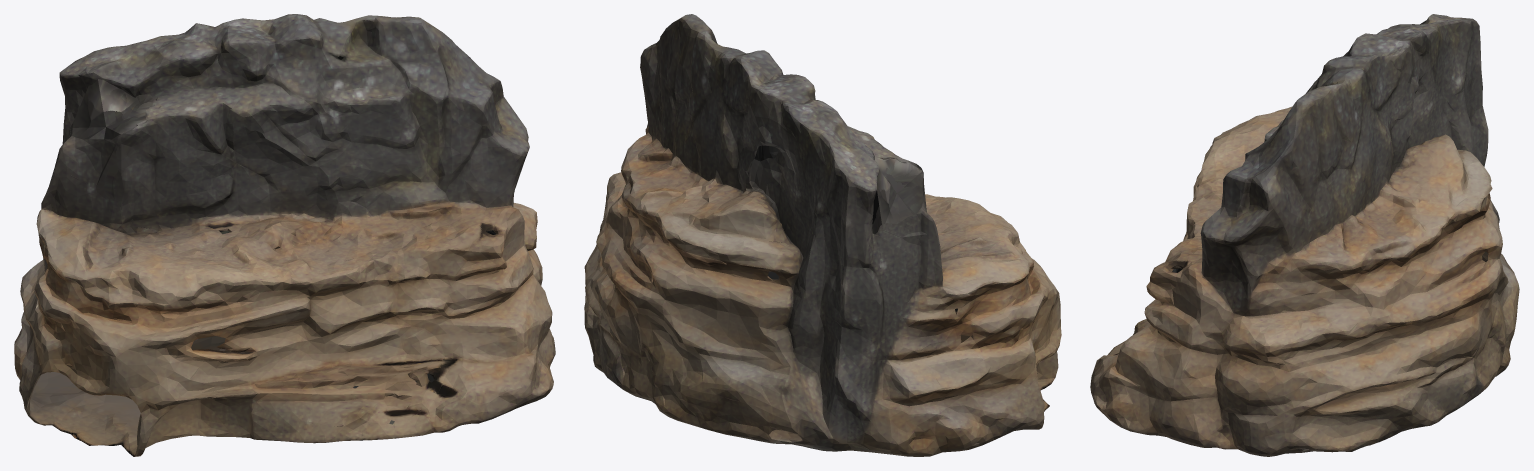
3 views of the same model, side by side, from view 1: azimuth 30°, elevation 25°; view 2: azimuth 150°, elevation 25°; view 3: azimuth 270°, elevation 25° (orthographic).
Visible parts, largest first — view 1: geometry_0; view 2: geometry_0; view 3: geometry_0.
Part boxes in pixels (x1=…): geometry_0: x1=14, y1=14, x2=555, y2=456; geometry_0: x1=584, y1=14, x2=1061, y2=456; geometry_0: x1=1090, y1=14, x2=1519, y2=456.
Bounding box in the file's own units: 1 × 0.6568 × 0.7911.
2 materials, 2 textured.
